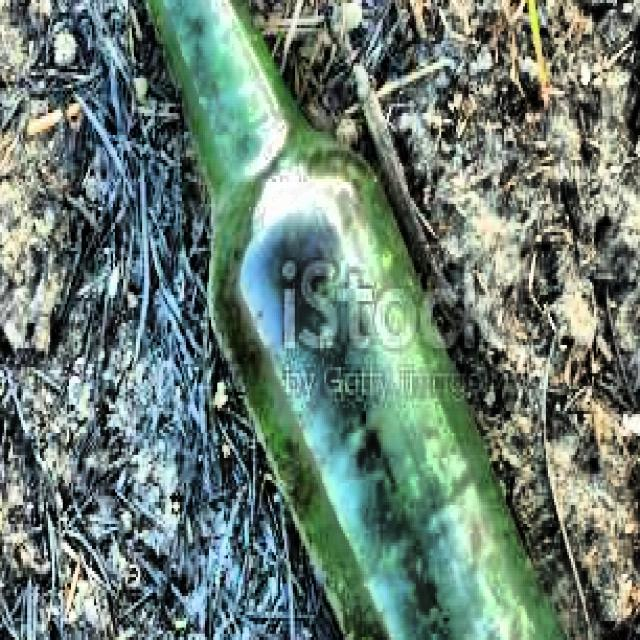glass: (145, 0, 564, 640)
